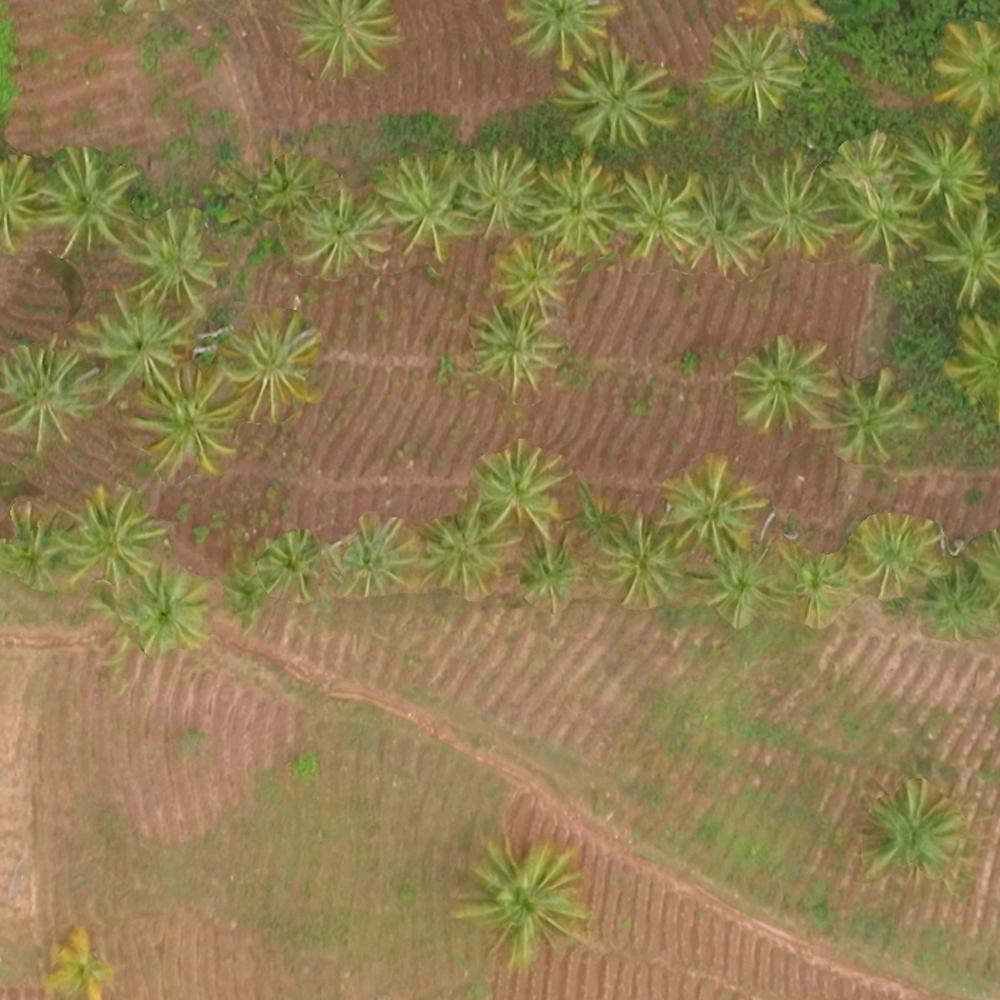Palm: (462, 839, 586, 963), (553, 44, 675, 144), (78, 291, 187, 398), (216, 311, 328, 415), (129, 366, 230, 472), (862, 780, 962, 879), (35, 149, 135, 247), (284, 1, 403, 83), (291, 181, 386, 283), (121, 213, 220, 308), (3, 342, 95, 444), (59, 490, 161, 581), (377, 154, 472, 251), (533, 156, 626, 255), (664, 457, 759, 551), (468, 307, 564, 397), (747, 155, 834, 254), (705, 23, 800, 113), (735, 340, 832, 426), (901, 125, 992, 214), (475, 443, 563, 534), (115, 567, 211, 650), (417, 505, 509, 591), (594, 514, 679, 607), (683, 171, 763, 269), (832, 368, 915, 462), (508, 1, 616, 71), (618, 165, 699, 258), (840, 185, 930, 265), (487, 241, 577, 318), (455, 146, 534, 233), (777, 544, 855, 631), (857, 512, 940, 593), (932, 17, 1000, 114), (241, 149, 320, 229), (700, 549, 779, 628), (929, 212, 1000, 299), (333, 518, 413, 588), (41, 927, 118, 998), (829, 133, 912, 195), (508, 533, 580, 599), (260, 532, 326, 593)
